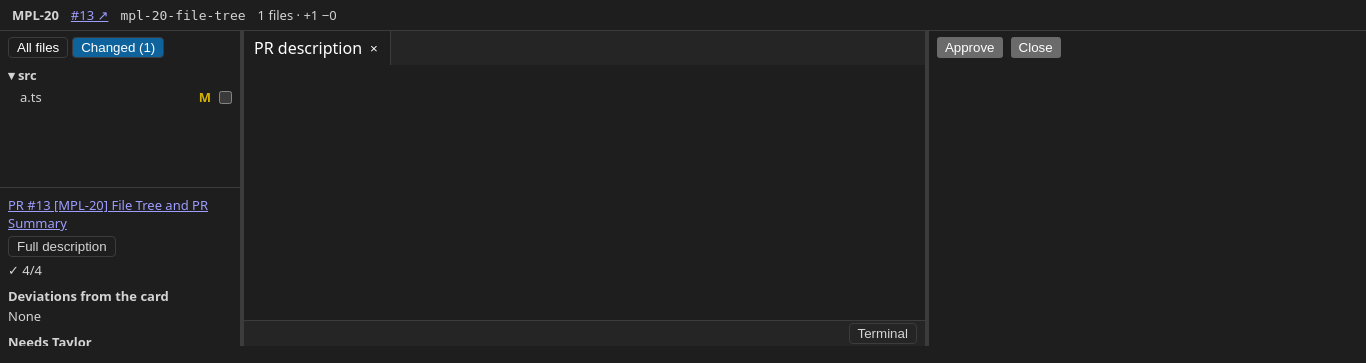
Test: CardTab › keeps the PR description closed until Full description opens it
expect the tab "PR description ×" is shown: met, box [244,31,391,65]
Click the button named "Close PR description": (374, 48) [368,40,380,56]
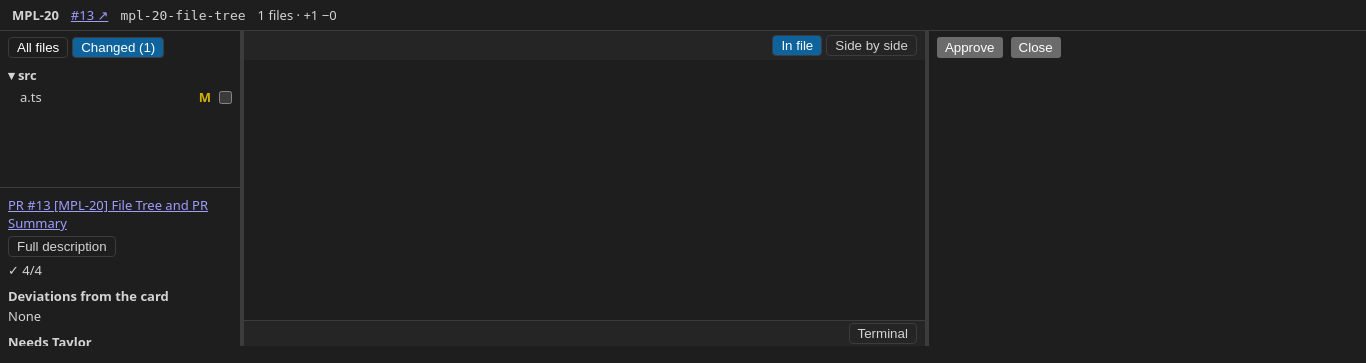
Click the text "a.ts": (31, 97) [20,88,42,106]
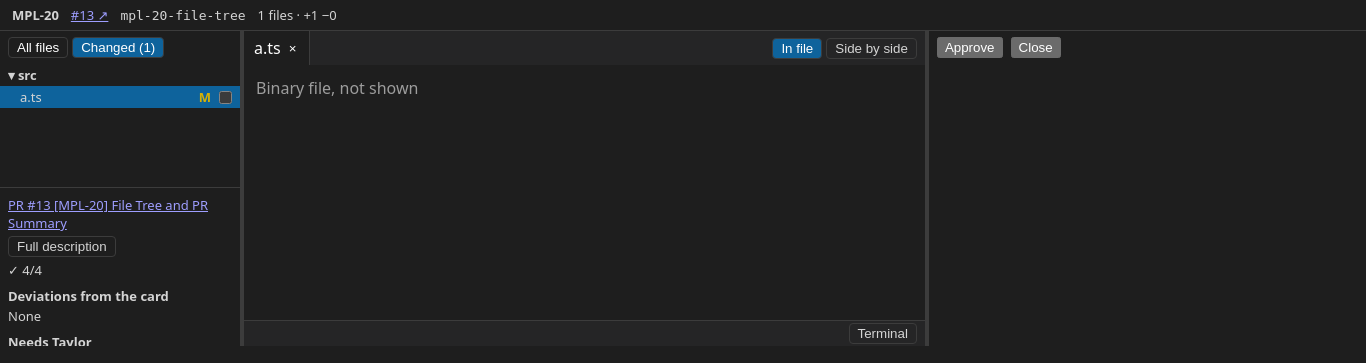
Click the button "Full description": (62, 247) [8,236,116,257]
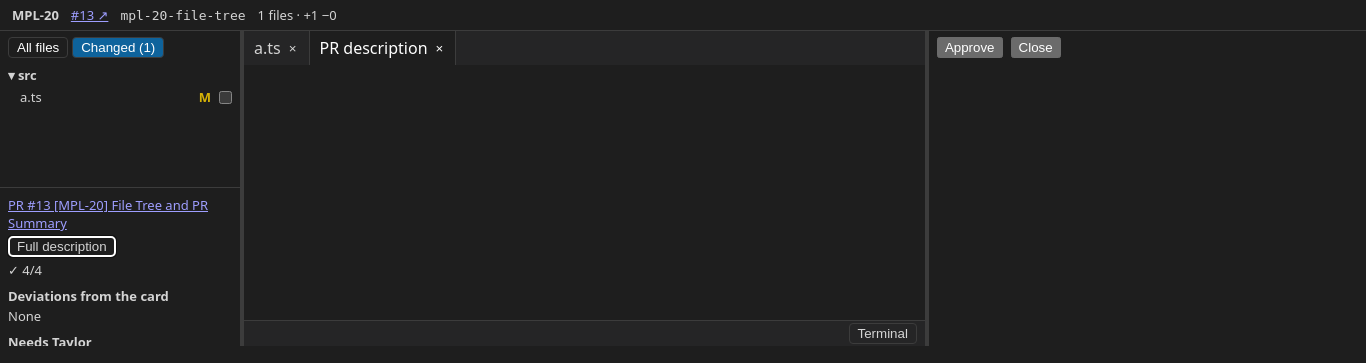
expect the tab "PR description ×" is shown: met, box [310,31,456,65]
